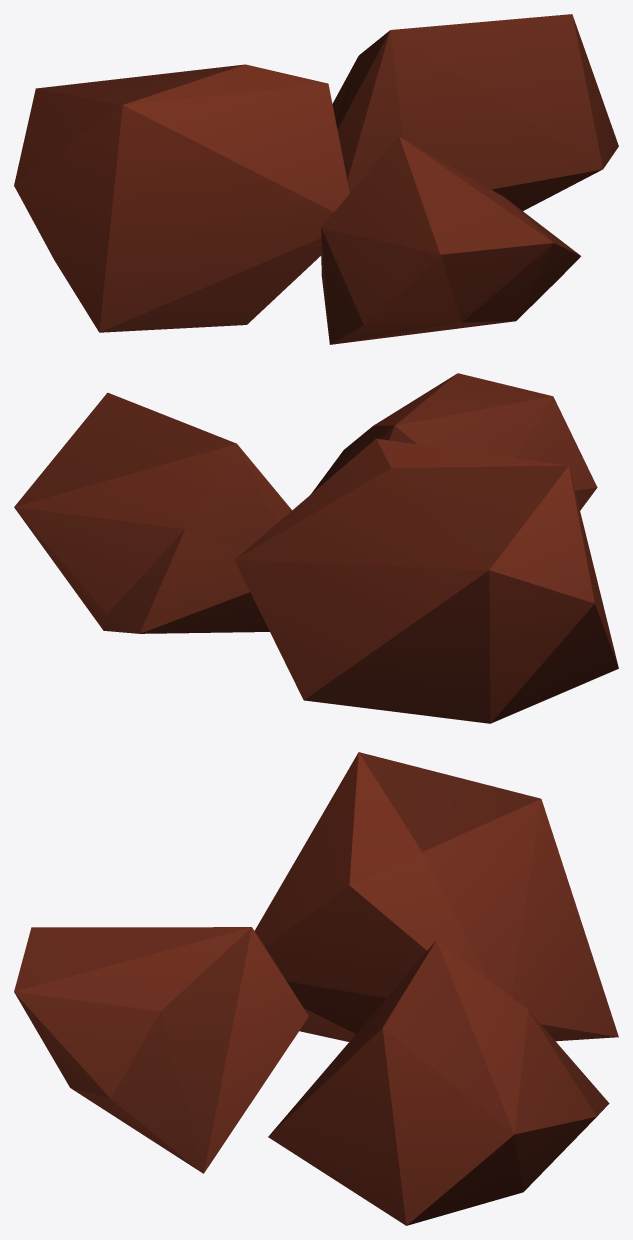
File: copper-ore.glb
The picture shows the model from 3 angles, top to bottom: view 1: azimuth 30°, elevation 25°; view 2: azimuth 150°, elevation 25°; view 3: azimuth 270°, elevation 25°; orthographic projection. The views are drawn at different scales.
Parts seen in each view (by area): view 1: copper-ore; view 2: copper-ore; view 3: copper-ore.
Part boxes in pixels (box(x1,y1,x2,y2)): copper-ore: box(14, 14, 618, 344); copper-ore: box(14, 373, 618, 723); copper-ore: box(14, 752, 618, 1225).
Size of the model in its own units: 0.2648 by 0.091 by 0.2182.
